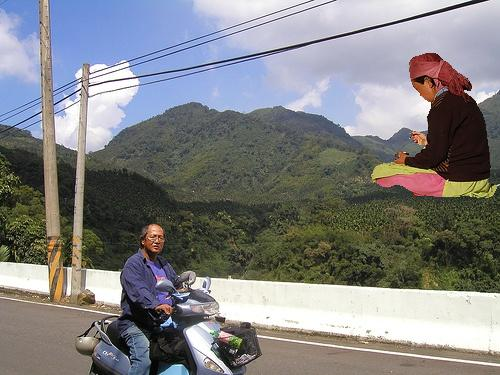tampered: (372, 54, 497, 198)
